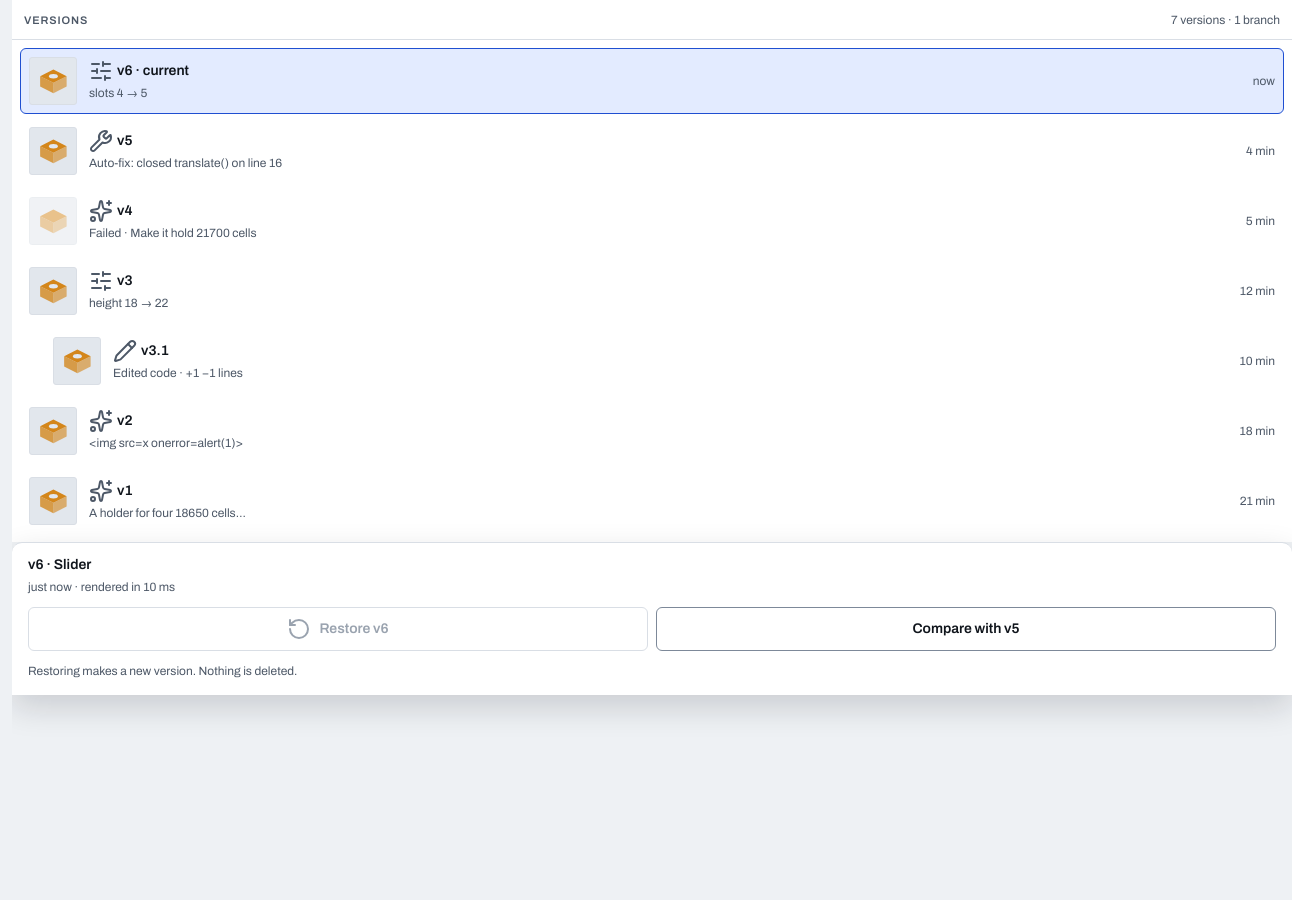
Test: on a phone › shows the diff as one column that wraps long lines
Click the button "v3 height 18 → 22 12 min": (53, 291) [20,258,1284,324]
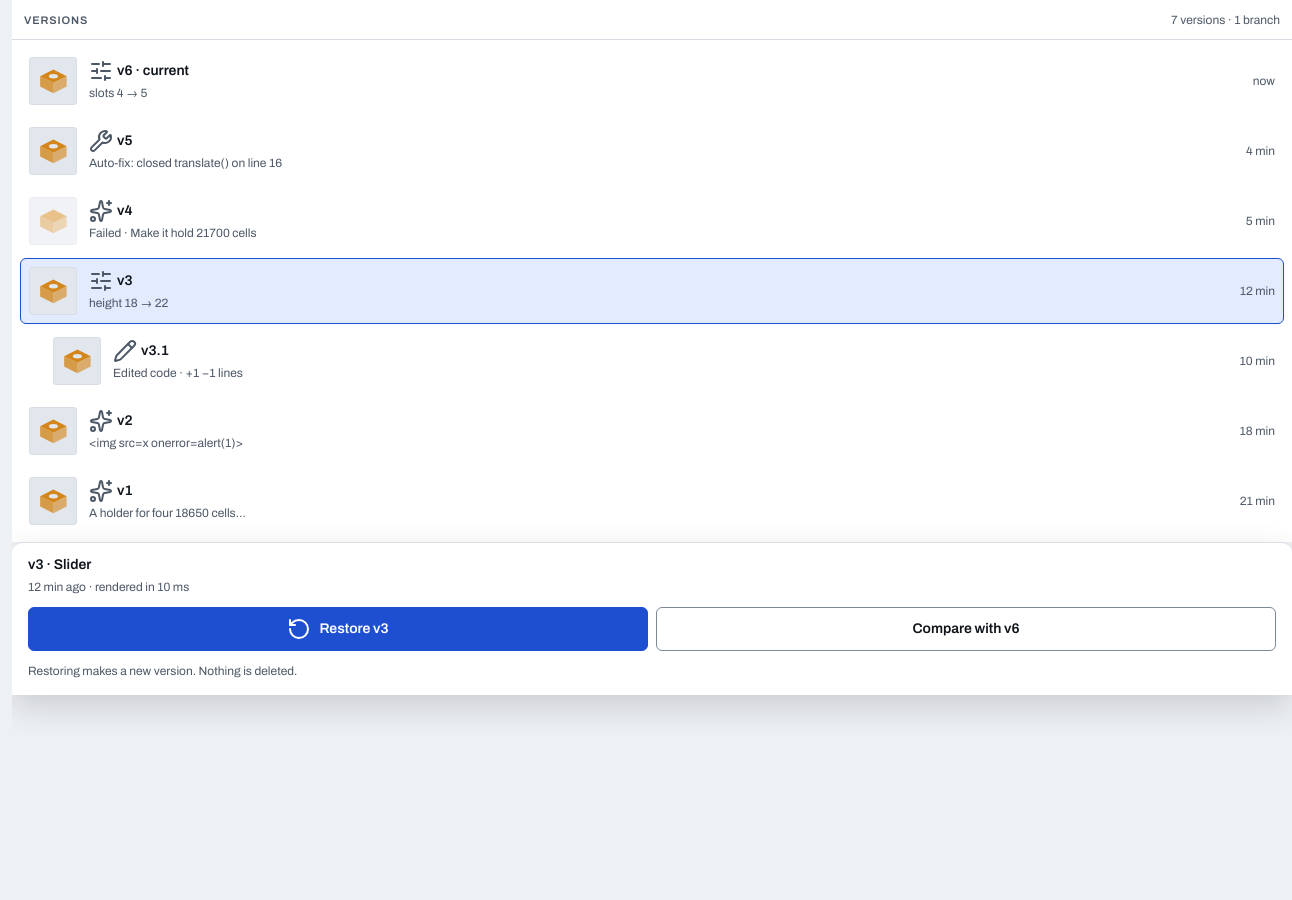
Click the button "Compare with v6": (966, 629) [656,607,1276,651]
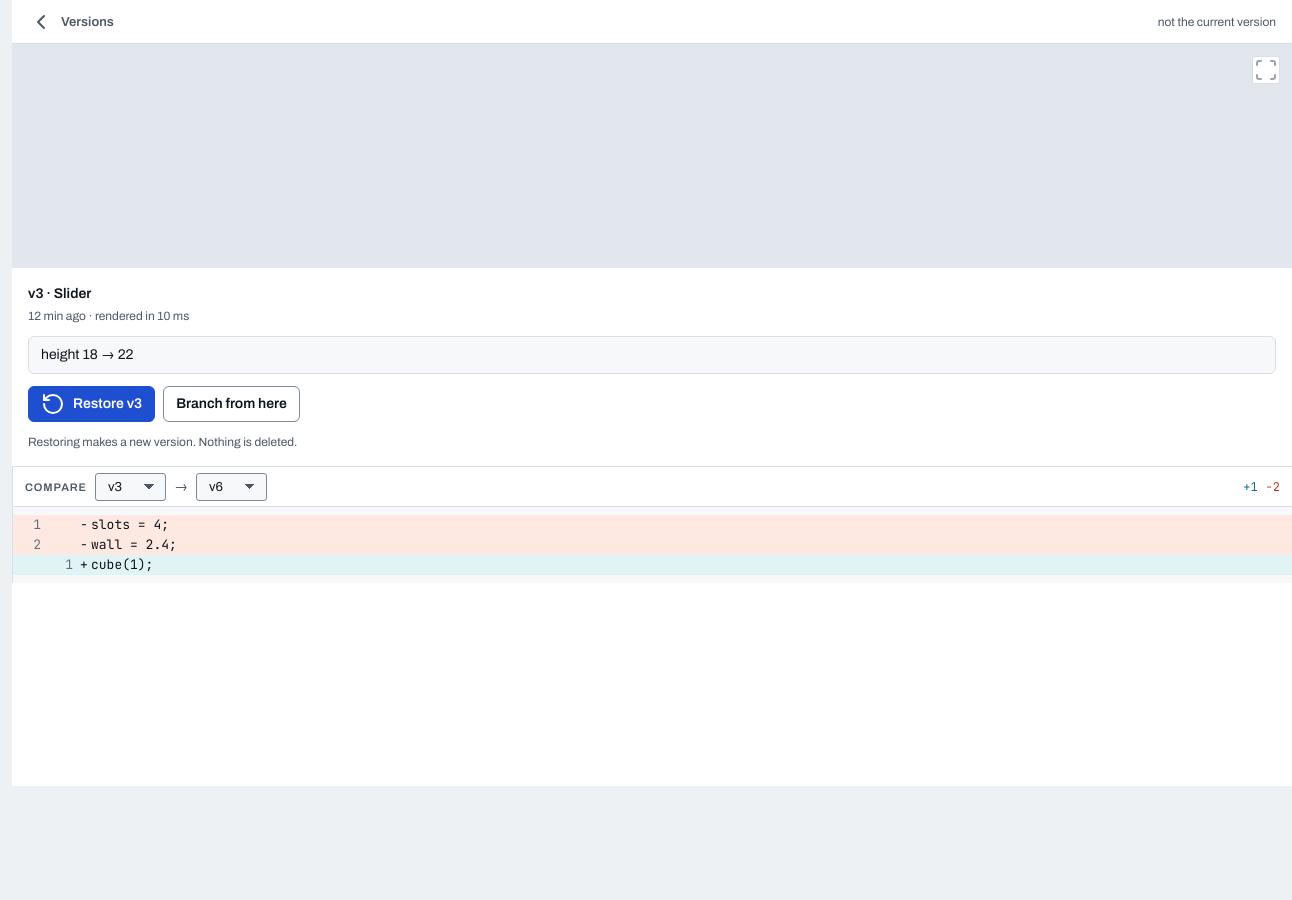
Select "v1" in the dropdown named "From version": (130, 486) [95,472,166,500]
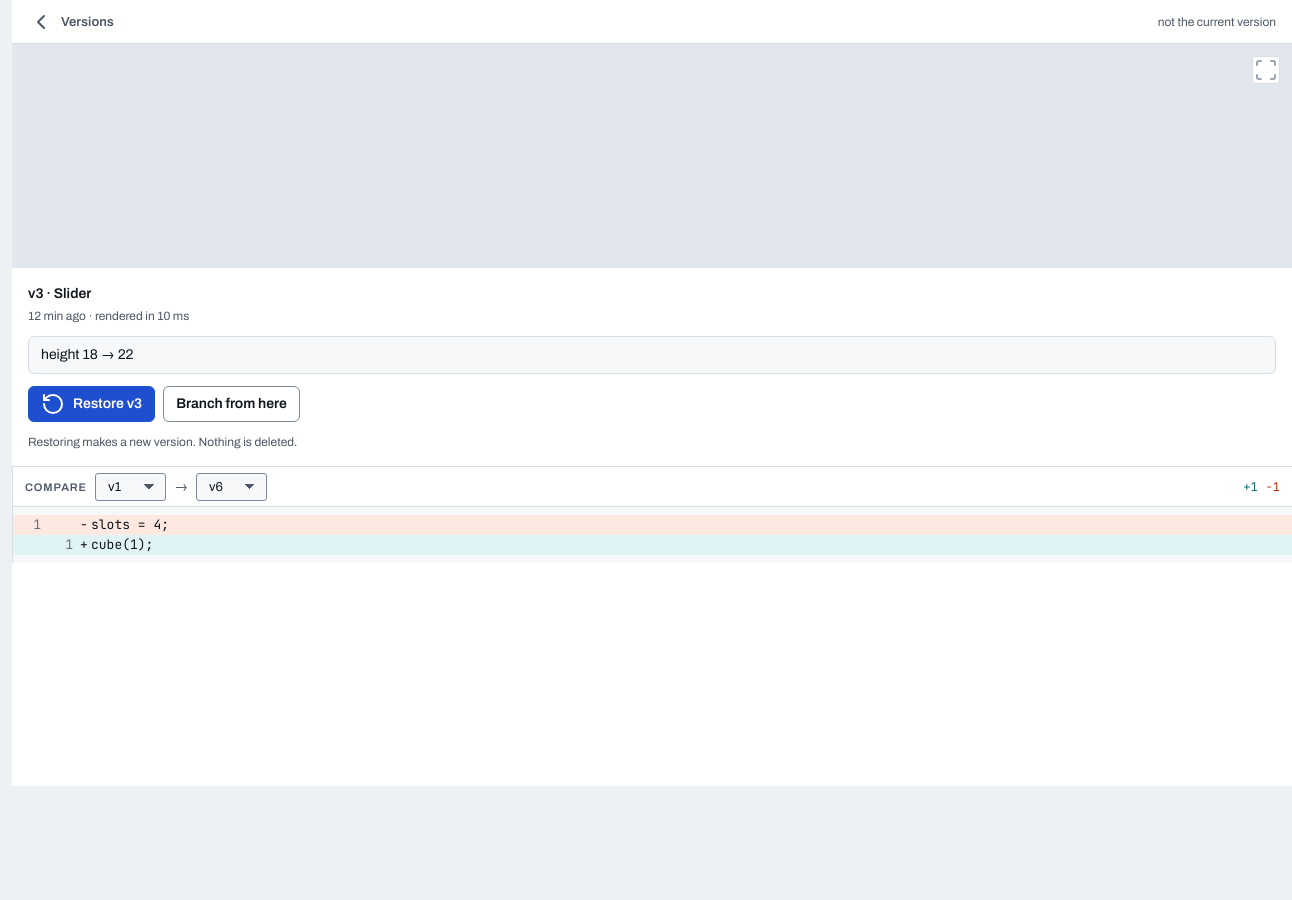
Select "v2" in the dropdown named "To version": (231, 486) [196,472,267,500]
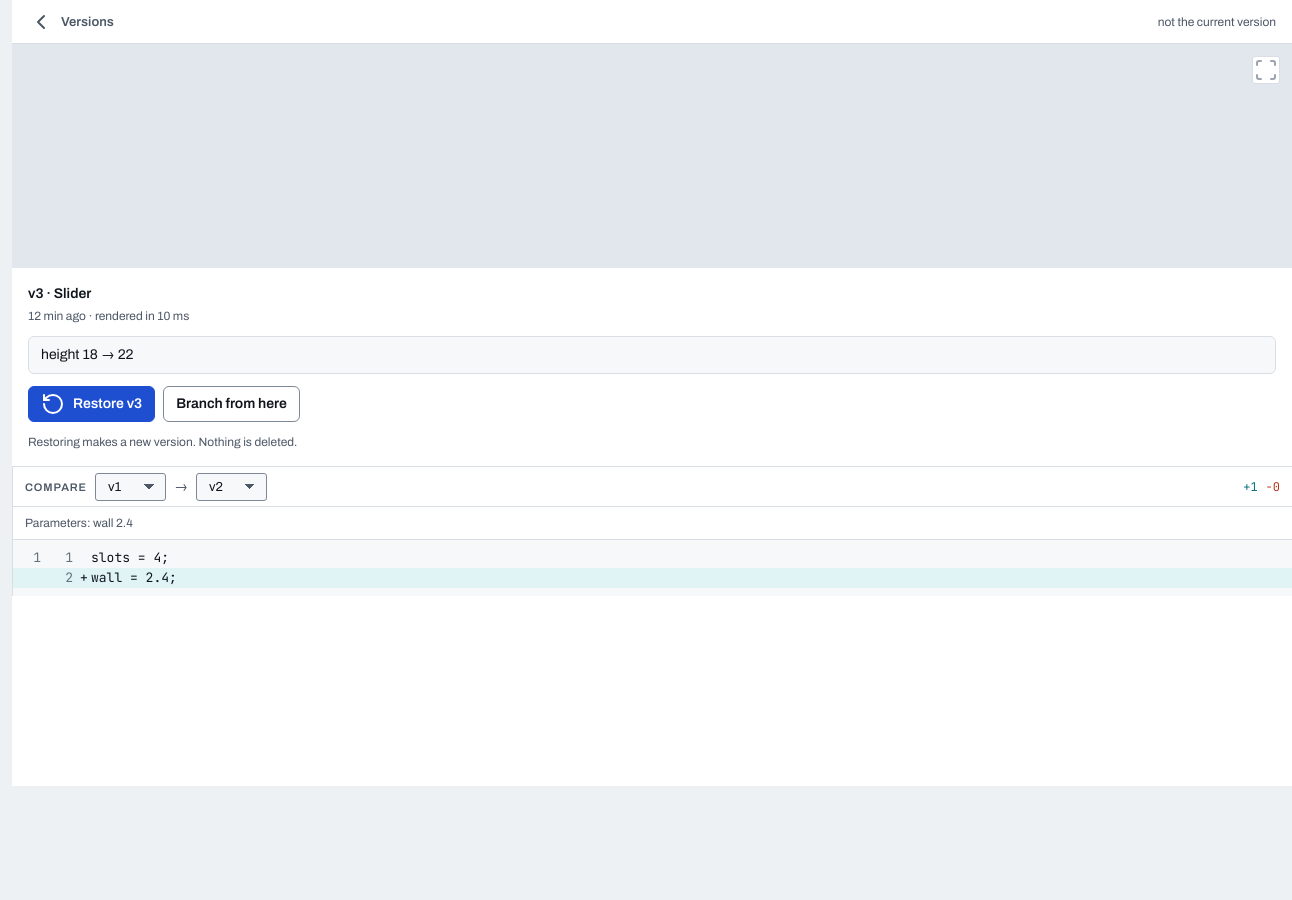
Expected: the element showing "2 + wall = 2.4;" is shown, [13,568,1291,588]
